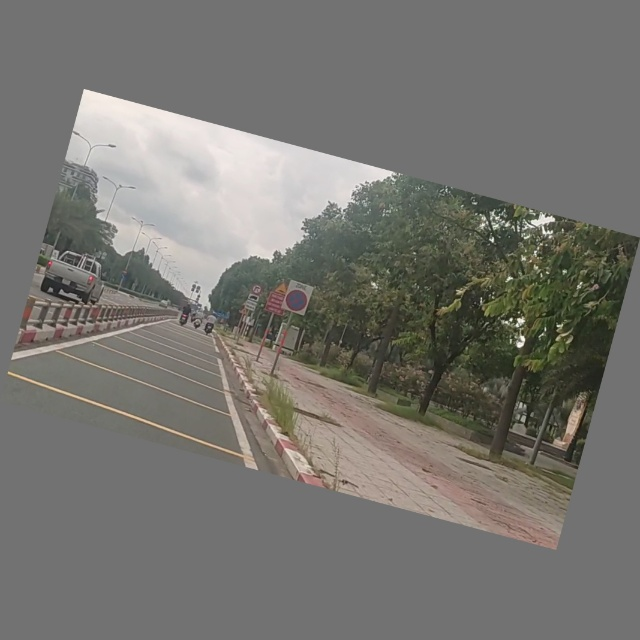P.123b: (250, 284, 264, 297)
P.130: (281, 279, 315, 317)
S.505a*Xe tai: (242, 292, 261, 314)
